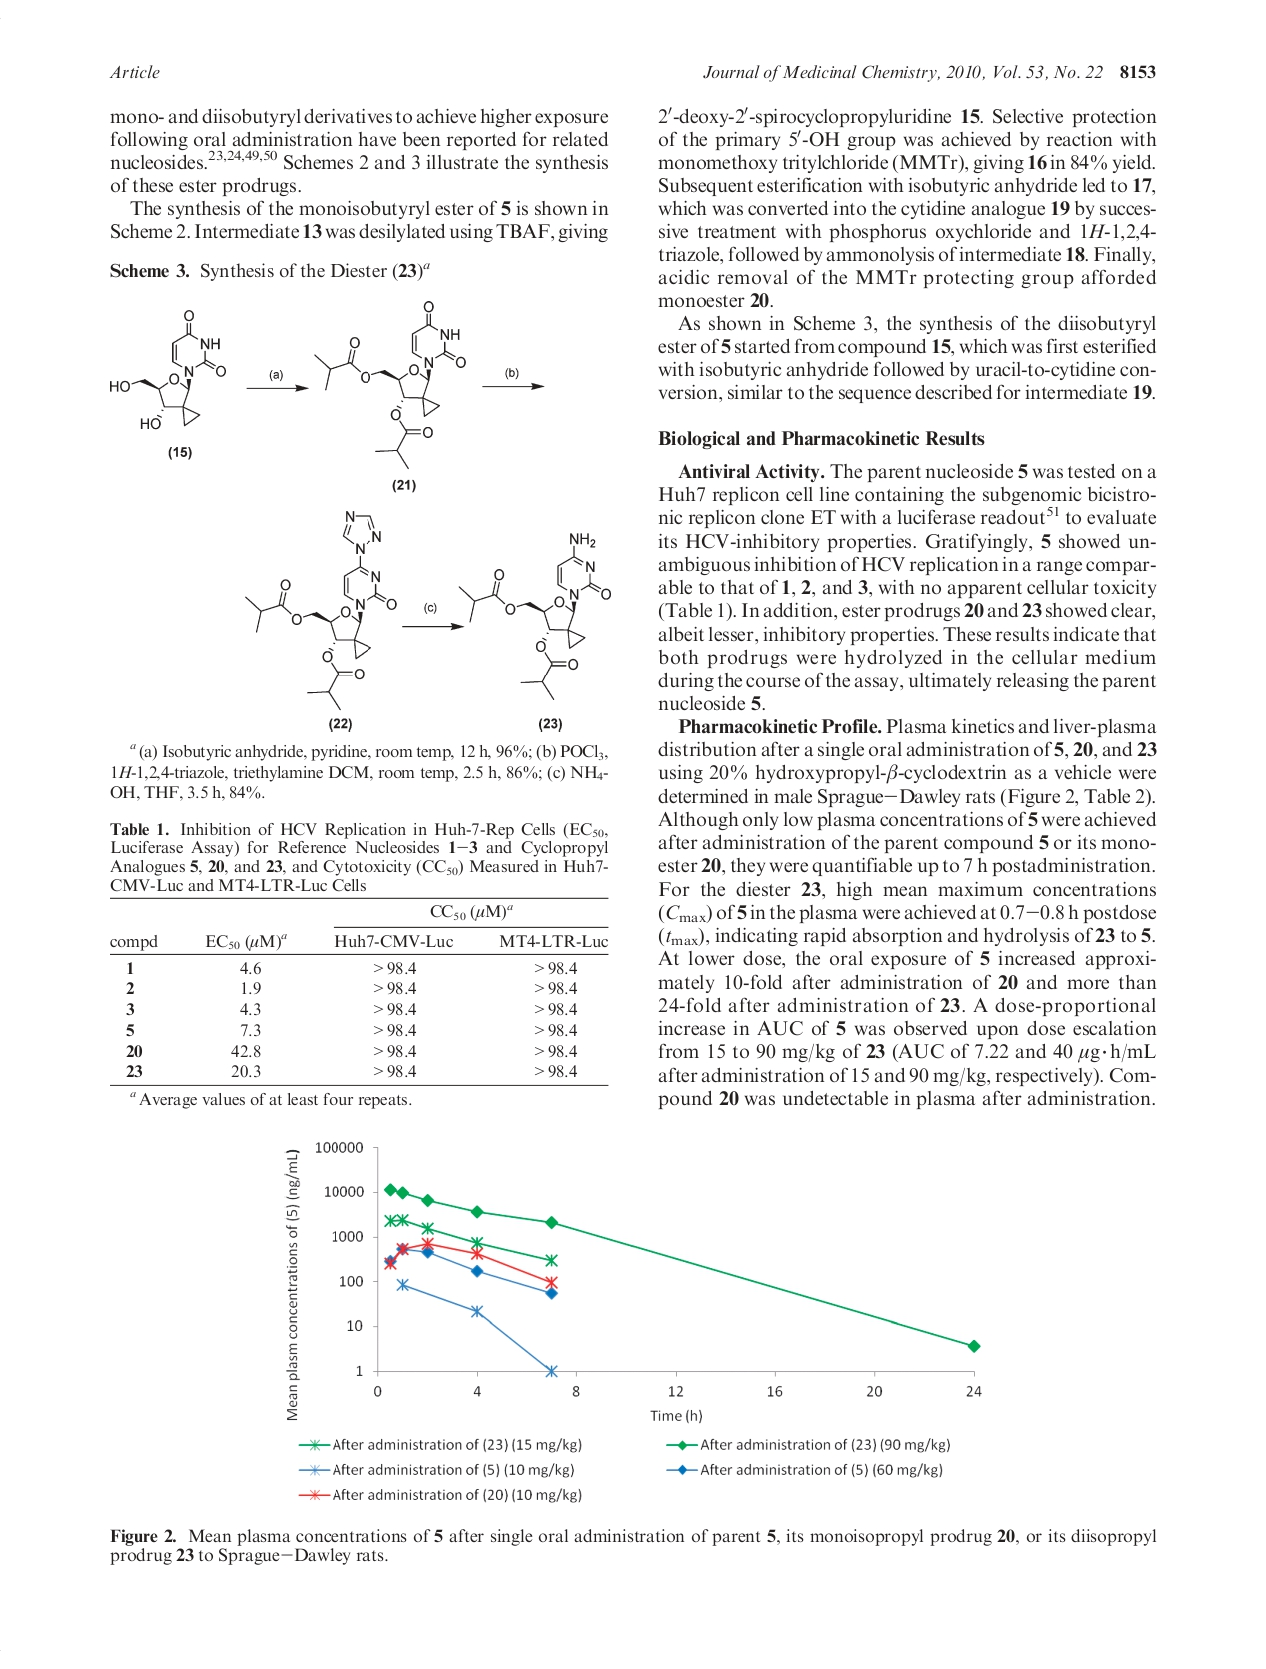exist_molecular: (243, 509, 398, 714), (313, 297, 469, 472), (457, 531, 613, 702), (108, 309, 227, 432)
